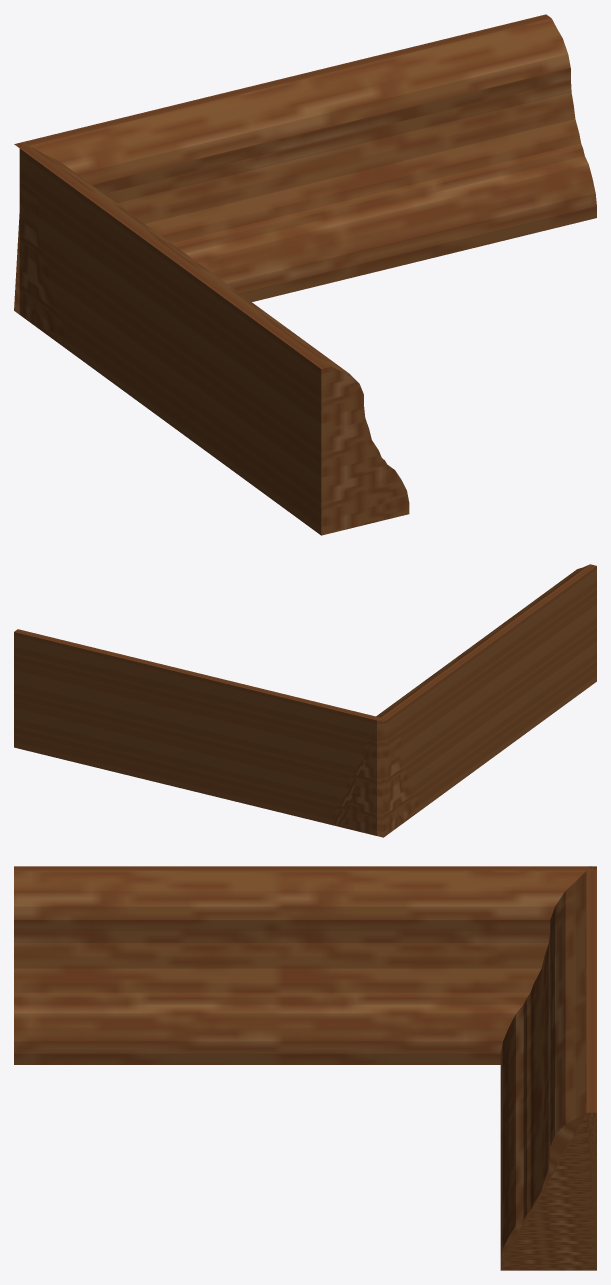
Rendered from plinusUgol.obj.
The picture shows the model from 3 angles, top to bottom: view 1: azimuth 30°, elevation 25°; view 2: azimuth 150°, elevation 25°; view 3: azimuth 270°, elevation 25°; orthographic projection. The views are drawn at different scales.
Parts seen in each view (by area): view 1: Плоскость.006; view 2: Плоскость.006; view 3: Плоскость.006.
Part boxes in pixels (<box>): Плоскость.006: <box>14,14,596,535</box>; Плоскость.006: <box>14,564,596,837</box>; Плоскость.006: <box>14,866,596,1270</box>.
Size of the model in its own units: 5.85 by 1.75 by 5.85.
